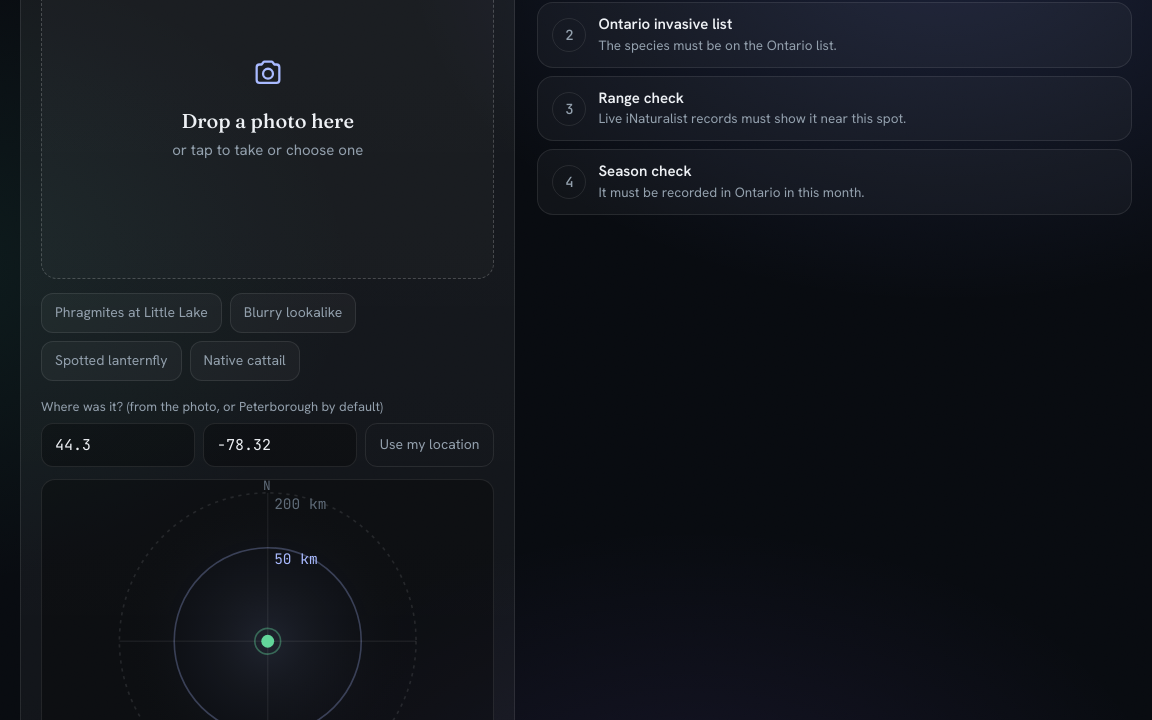
Scenario: Check page & State persistence integration › allows clicking a scenario and selecting it
(page scrolled)
Click the button "Spotted lanternfly". click: (111, 361)
box: [41,341,182,381]
(page scrolled)
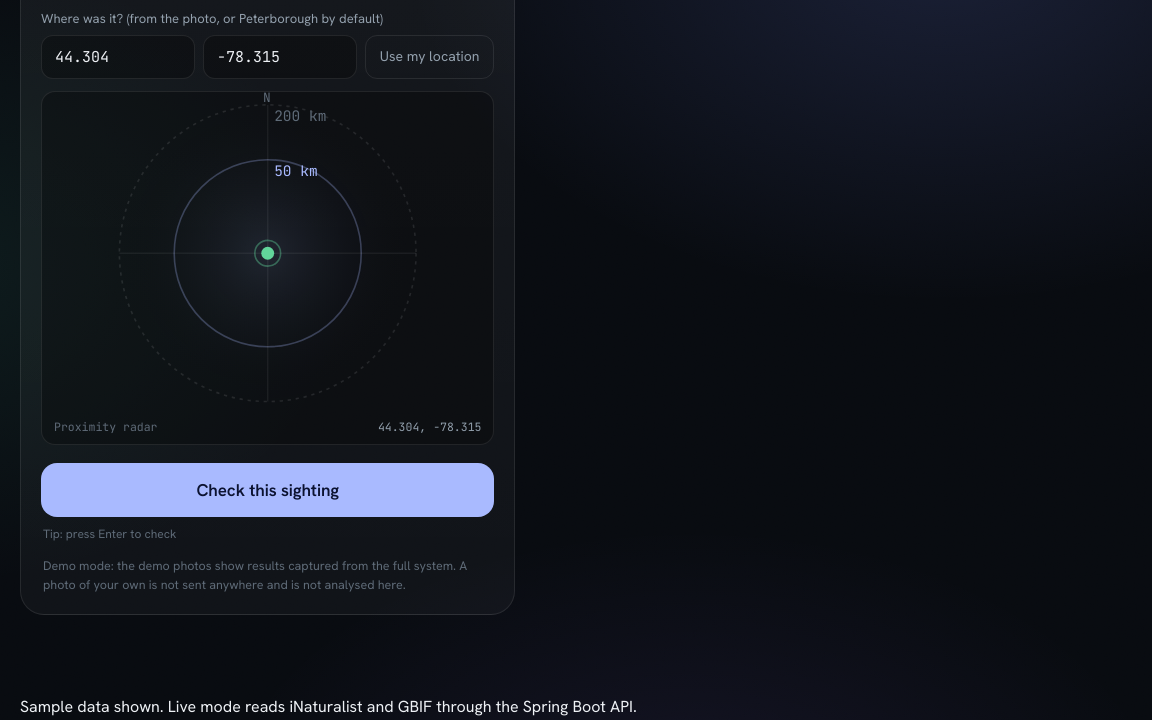
Now the button "Check this sighting" is enabled, box [41,463,494,517]
